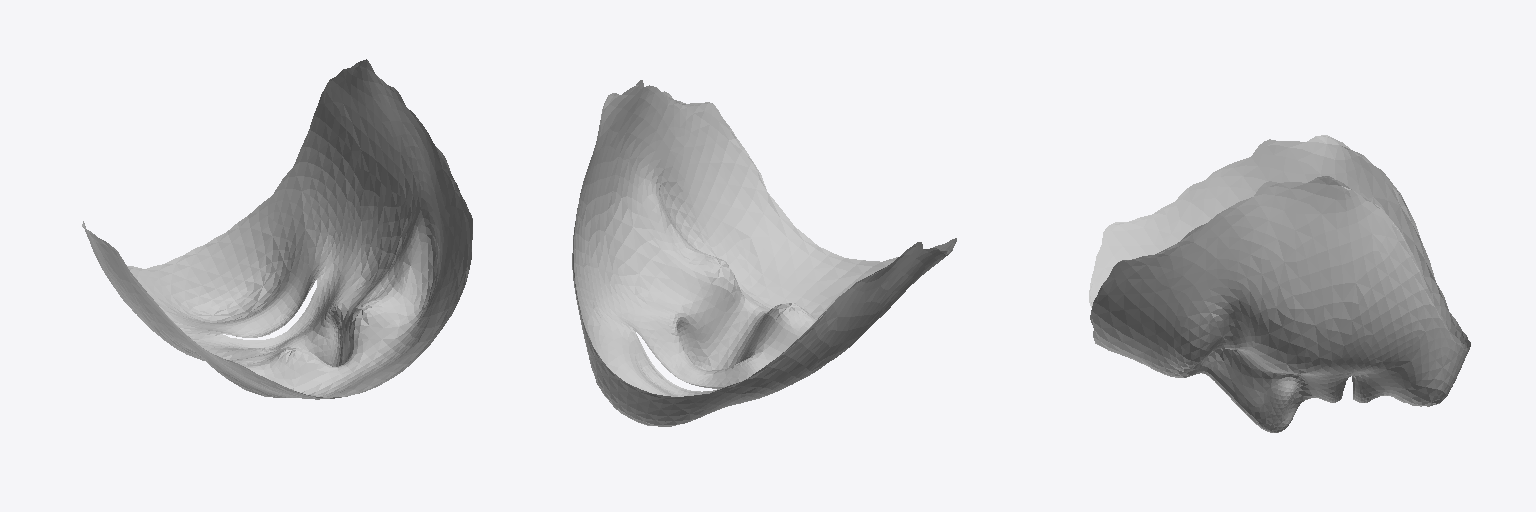
Rendered from face_gab_sfm6.obj.
3 views of the same model, side by side, from view 1: azimuth 30°, elevation 25°; view 2: azimuth 150°, elevation 25°; view 3: azimuth 270°, elevation 25° (orthographic).
Size of the model in its own units: 162 by 151 by 180.